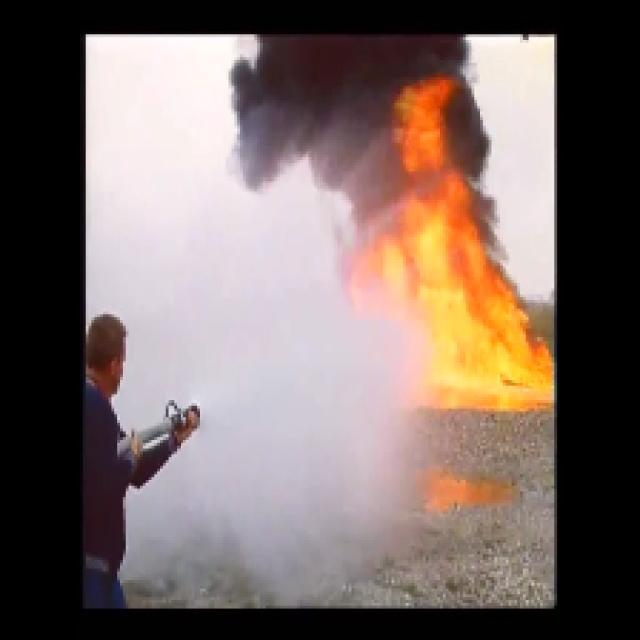fire: (423, 242, 541, 388)
smoke: (268, 39, 386, 143)
